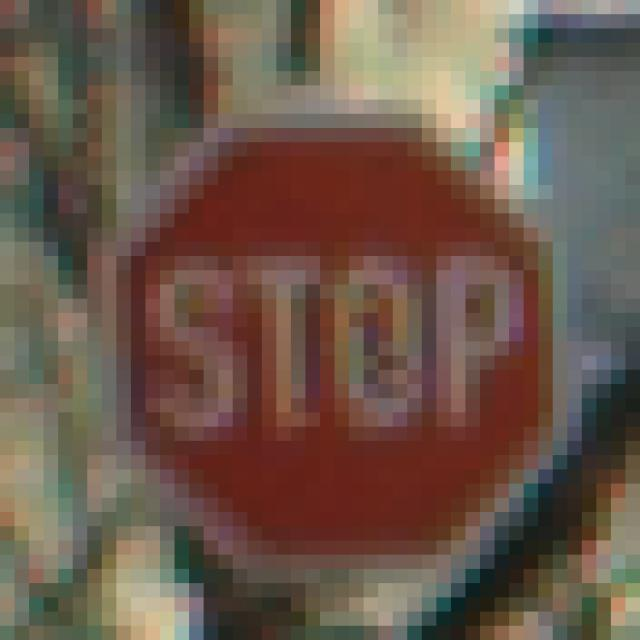STOP: (74, 86, 568, 570)
